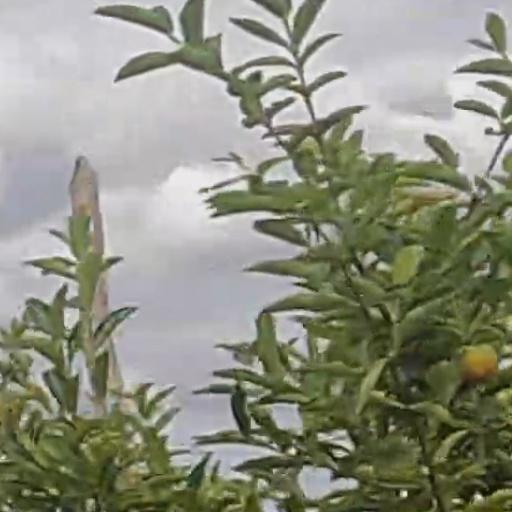acerola_vermelha: (462, 344, 497, 380)
